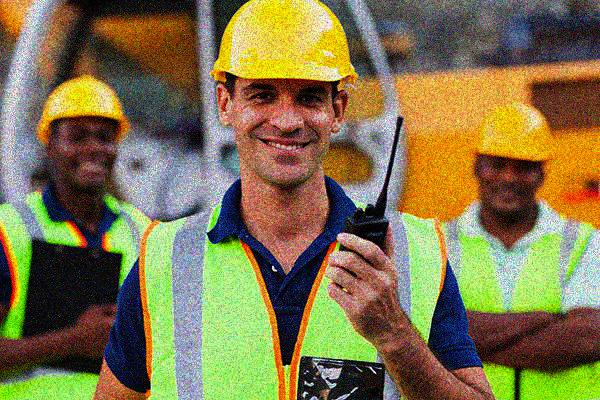helmet: (210, 1, 359, 187), (36, 74, 131, 193), (472, 101, 557, 217)
